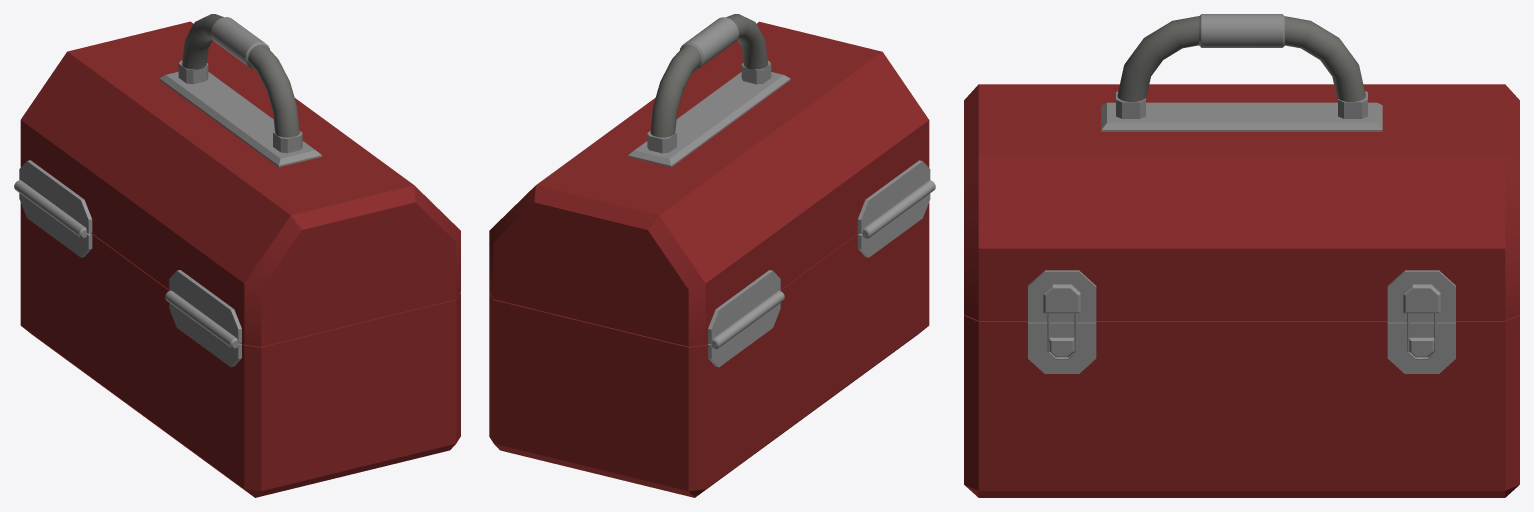
File: toolbox-red.glb
The picture shows the model from 3 angles, left to right: view 1: azimuth 30°, elevation 25°; view 2: azimuth 150°, elevation 25°; view 3: azimuth 270°, elevation 25°; orthographic projection. The views are drawn at different scales.
Parts seen in each view (by area): view 1: Object_2, Object_4, Object_3, Object_5; view 2: Object_2, Object_4, Object_3, Object_5; view 3: Object_2, Object_4, Object_3, Object_5.
Part boxes in pixels (x1,y1,x2,y2): Object_2: (20,21,460,497); Object_4: (14,160,241,367); Object_3: (159,17,321,167); Object_5: (182,14,299,137); Object_2: (489,21,929,497); Object_4: (708,160,935,367); Object_3: (628,17,790,167); Object_5: (650,14,768,137); Object_2: (964,84,1519,497); Object_4: (1028,270,1455,373); Object_3: (1101,14,1382,131); Object_5: (1117,16,1365,101).
Bounding box in the file's own units: 0.2844 × 0.4233 × 0.5.
